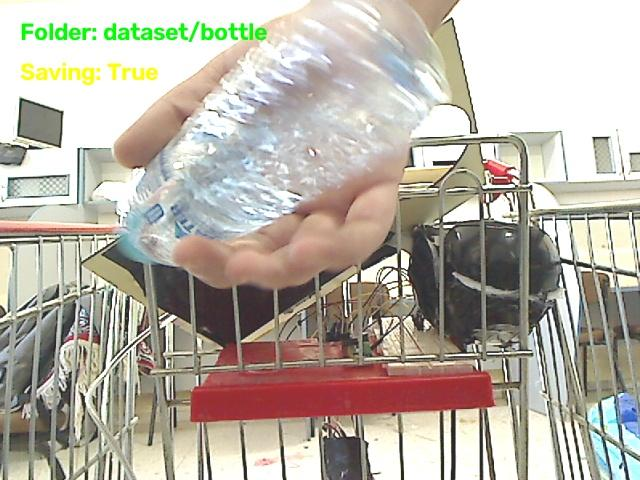Bottle: (120, 0, 447, 264)
